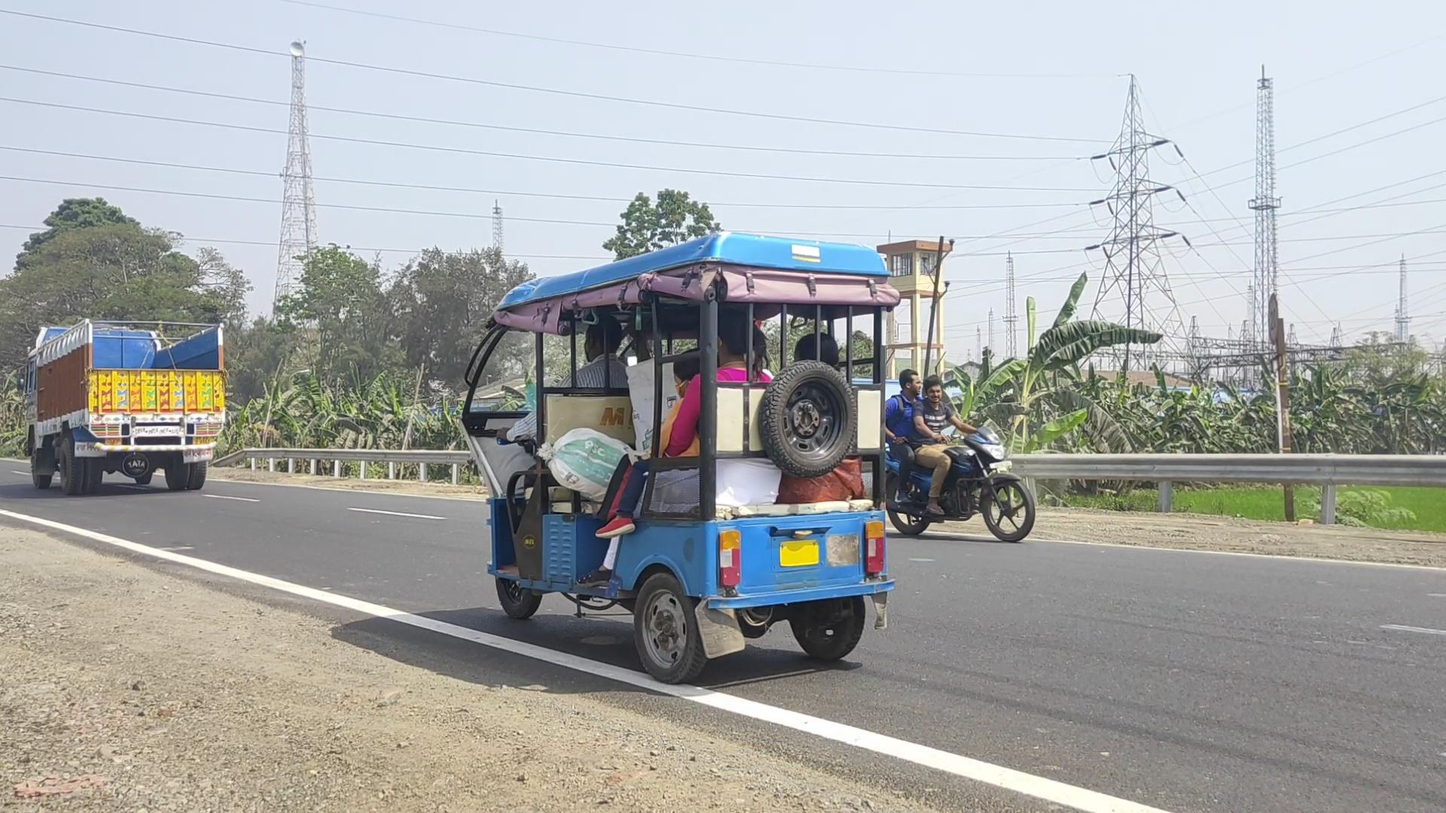Auto: (458, 231, 898, 686)
bike: (878, 368, 1036, 543)
truck: (17, 317, 225, 495)
